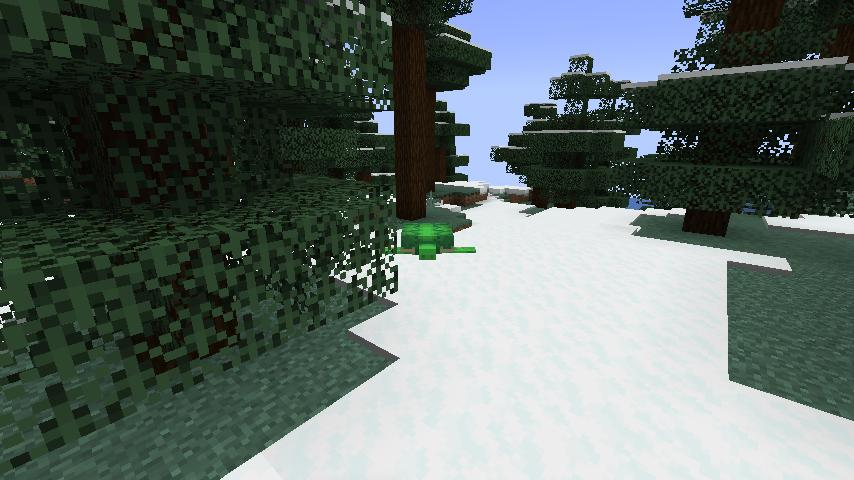turtle: (374, 218, 477, 264)
